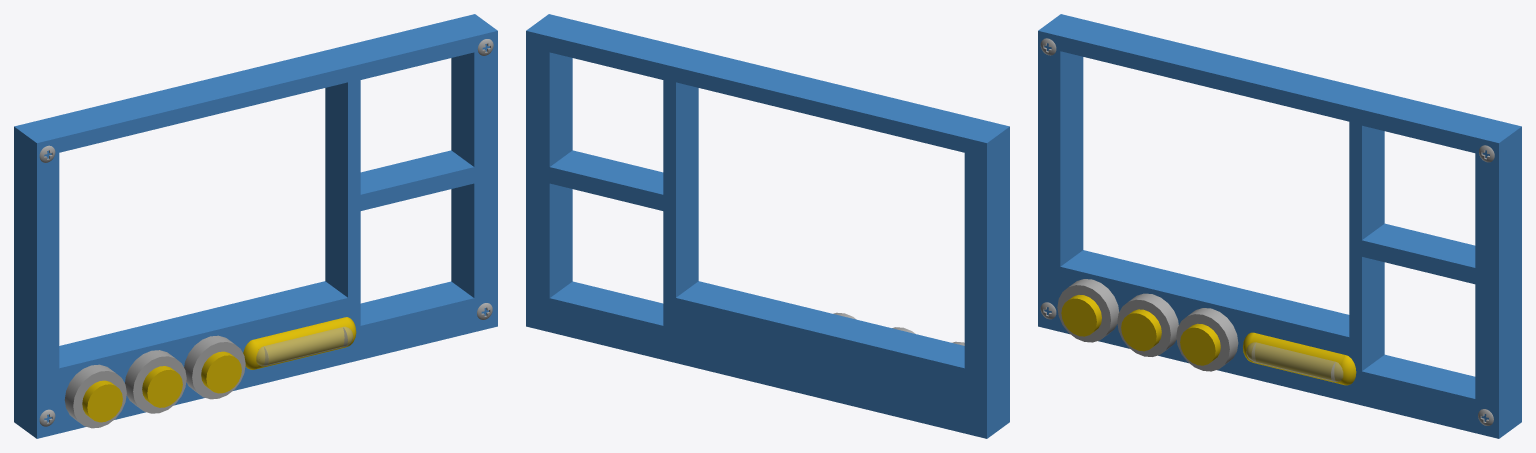
File: alienPanel.fbx
The picture shows the model from 3 angles, left to right: view 1: azimuth 30°, elevation 25°; view 2: azimuth 150°, elevation 25°; view 3: azimuth 330°, elevation 25°; orthographic projection.
Parts seen in each view (by area): view 1: pCube6, pasted__pasted__pCylinder1 (×2), polySurface5, pasted__pCylinder2 (×2), pCylinder1, polySurface8, pCylinder2; view 2: pCube6; view 3: pCube6, pasted__pasted__pCylinder1 (×2), polySurface5, pasted__pCylinder2 (×2), pCylinder1, polySurface8, pCylinder2.
Part boxes in pixels (<box>): pCube6: <box>14,14,497,438</box>; pasted__pasted__pCylinder1 (×2): <box>125,335,245,413</box>; polySurface5: <box>254,317,350,369</box>; pasted__pCylinder2 (×2): <box>142,351,241,407</box>; pCylinder1: <box>64,364,126,428</box>; polySurface8: <box>264,327,347,366</box>; pCylinder2: <box>82,380,122,422</box>; pCube6: <box>526,14,1009,438</box>; pCube6: <box>1038,14,1521,438</box>; pasted__pasted__pCylinder1 (×2): <box>1117,293,1238,371</box>; polySurface5: <box>1249,333,1344,384</box>; pasted__pCylinder2 (×2): <box>1121,309,1220,365</box>; pCylinder1: <box>1057,279,1118,342</box>; polySurface8: <box>1251,342,1335,381</box>; pCylinder2: <box>1061,295,1101,336</box>.
Size of the model in its own units: 11.63 by 7.13 by 1.6.
